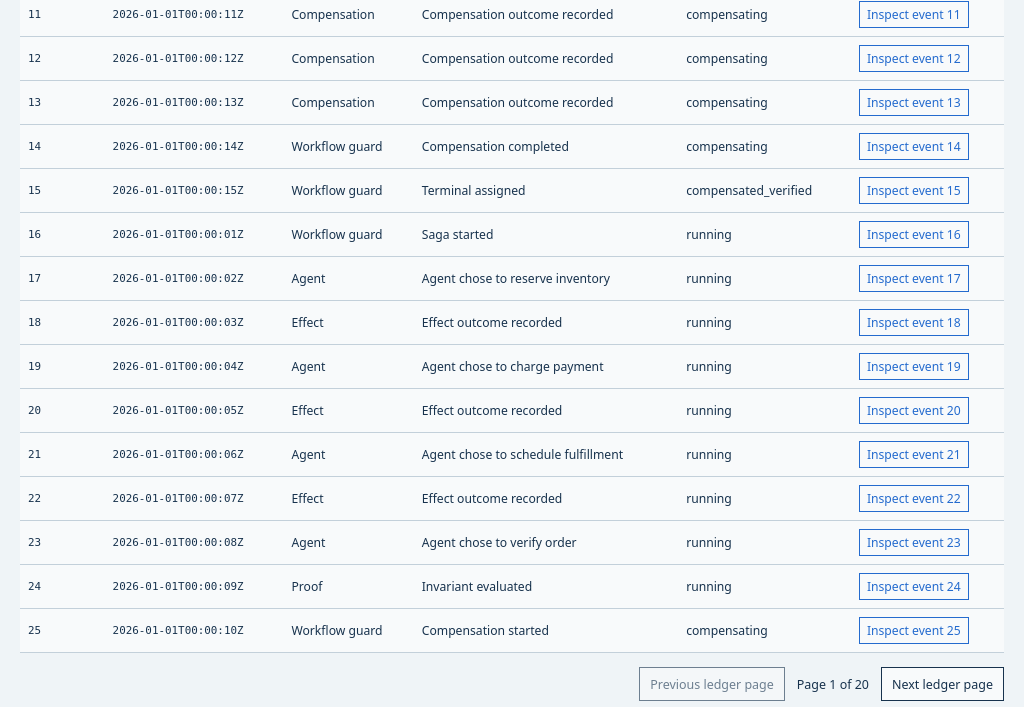
Test case: LedgerView › paginates a large trace without rendering an unbounded ledger
The image size is (1024, 707).
(page scrolled)
Expected: the text "Page 1 of 20" is shown, [797,676,869,692]
Click the button "Next ledger page" at x=942, y=684, box [881,667,1004,701]
(page scrolled)
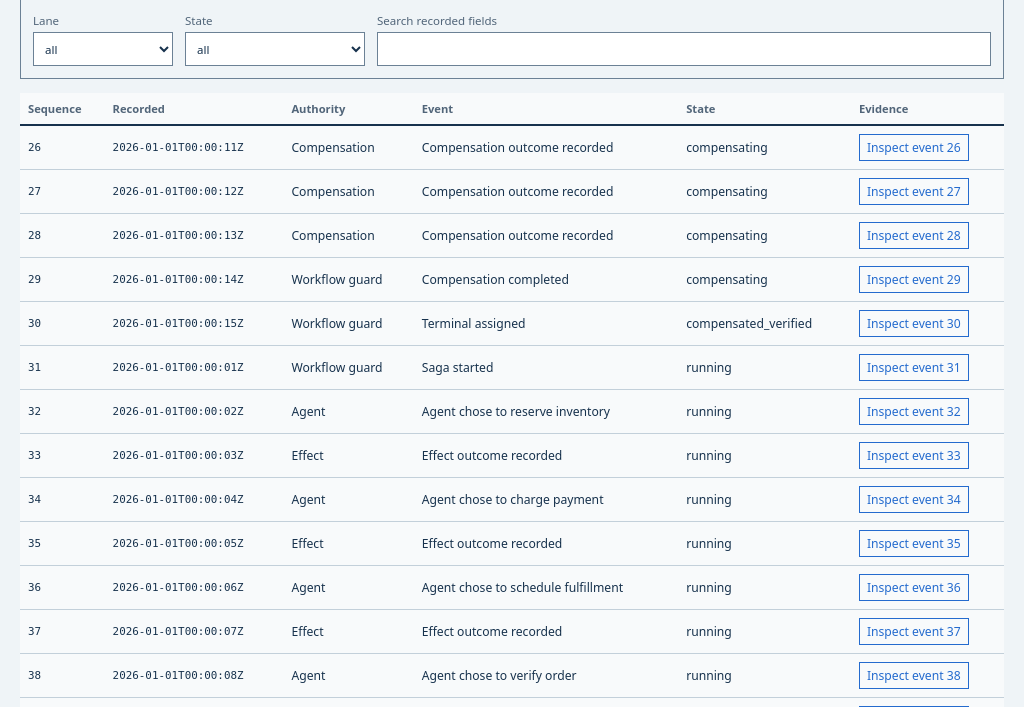
Expected: the button "Inspect event 26" is shown, [859,134,969,161]
